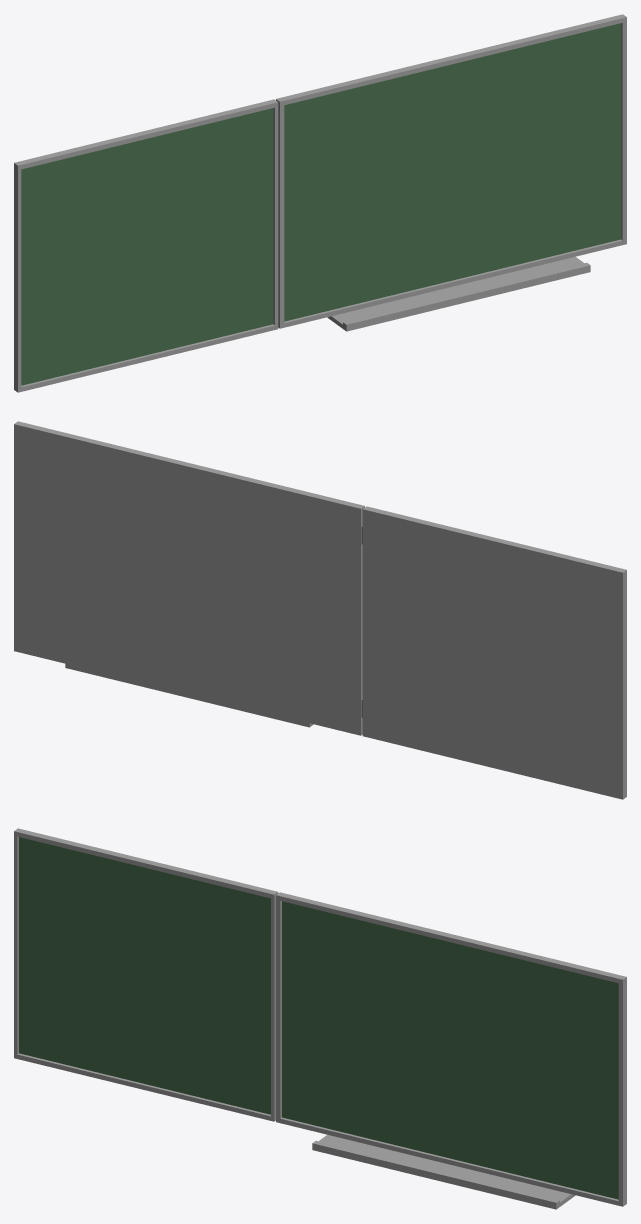
Rendered from Int_Board02.fbx.
3 renders of one model, top to bottom at view 1: azimuth 30°, elevation 25°; view 2: azimuth 150°, elevation 25°; view 3: azimuth 330°, elevation 25°, orthographic.
Parts seen in each view (by area): view 1: Int_Board02, Int_Board1_02; view 2: Int_Board02, Int_Board1_02; view 3: Int_Board02, Int_Board1_02.
Part boxes in pixels (<box>): Int_Board02: <box>276,14,626,331</box>; Int_Board1_02: <box>14,99,278,392</box>; Int_Board02: <box>14,421,364,735</box>; Int_Board1_02: <box>361,506,626,799</box>; Int_Board02: <box>276,892,626,1209</box>; Int_Board1_02: <box>14,828,278,1121</box>.
Size of what is drawn, in the model's own units: 351 by 19.11 by 127.
